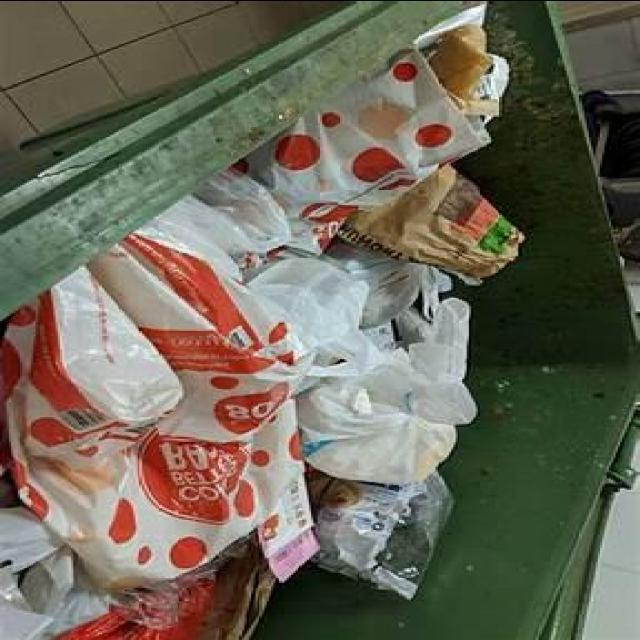Garbage: (1, 4, 523, 640)
Plastic_Bag: (0, 0, 510, 638)
